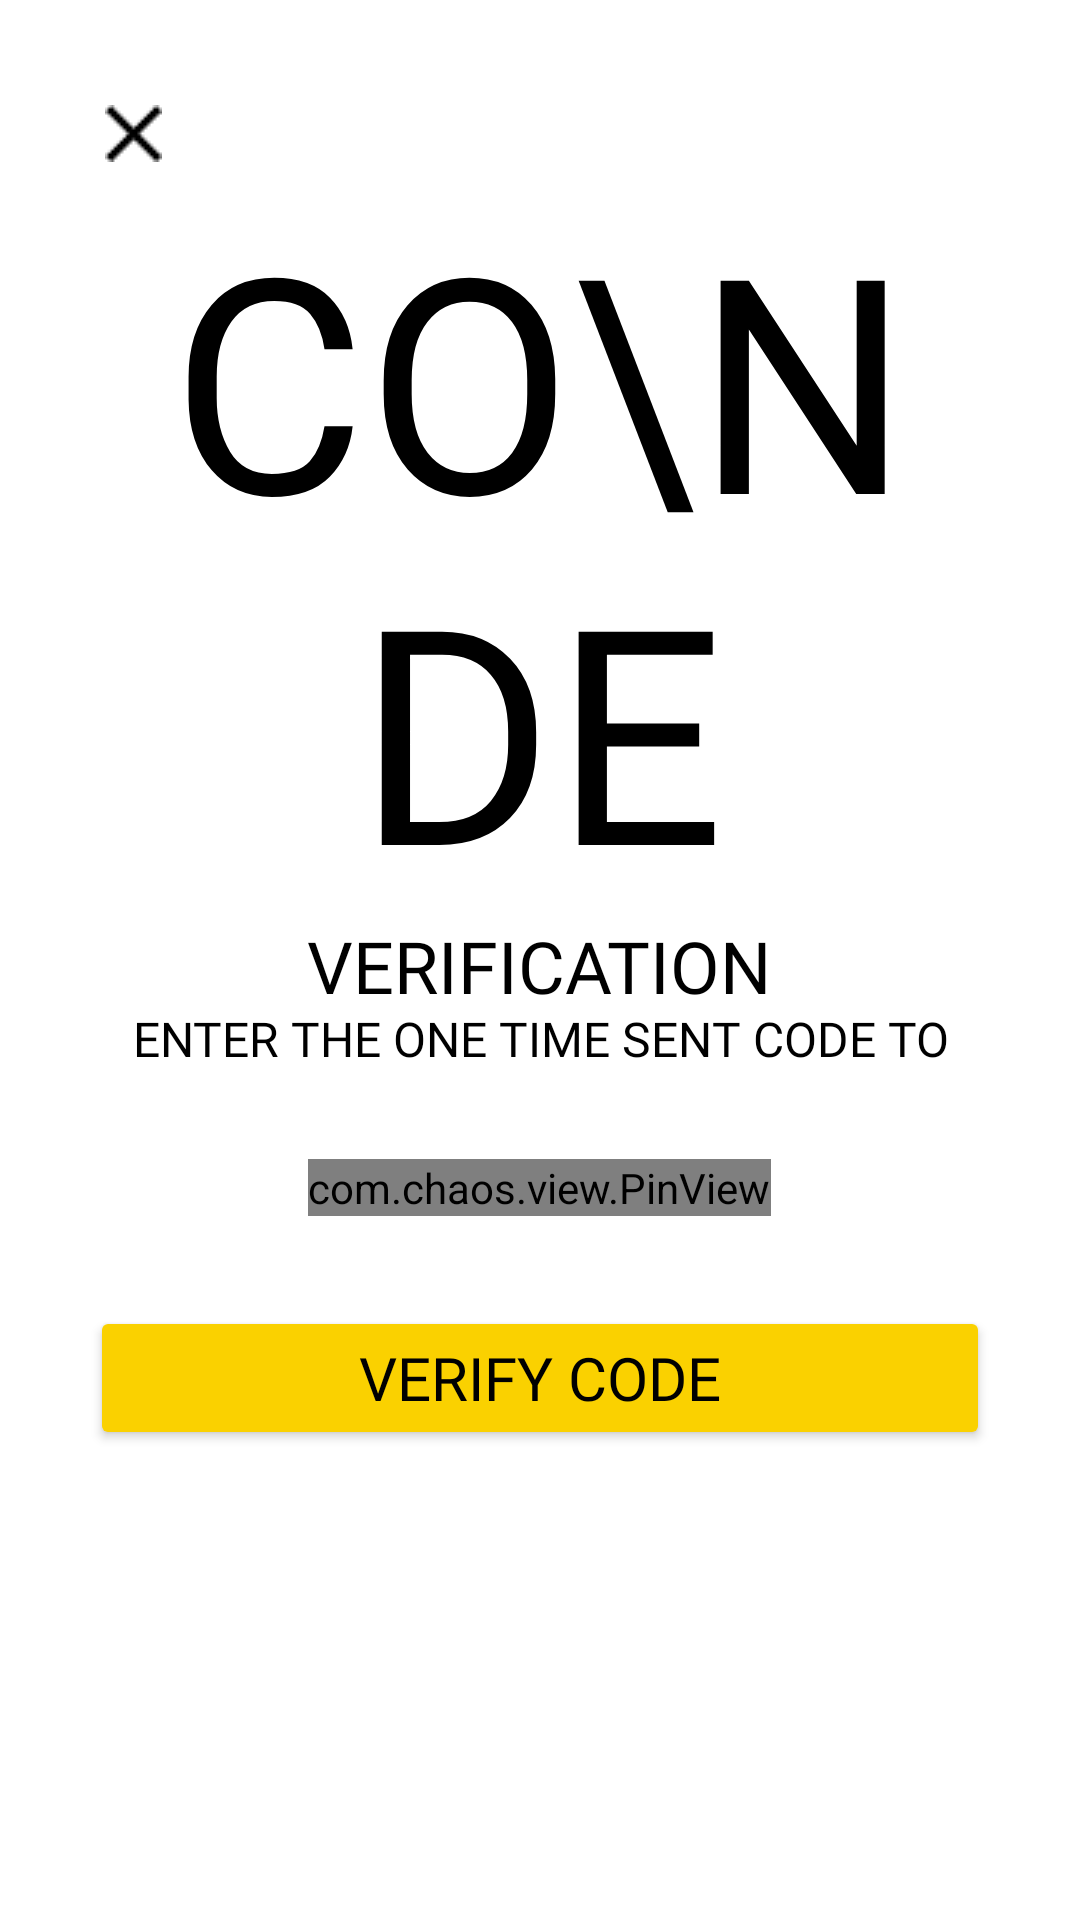

Named icons in this screenshot (1080*1920) and their bounding boxes, (x1, y1, x2, y2):
closeicon: (105, 105, 162, 162)
